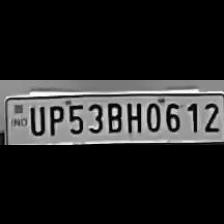0: (143, 98, 161, 132)
1: (183, 99, 199, 133)
2: (198, 98, 220, 132)
3: (85, 99, 103, 134)
5: (65, 100, 85, 134)
6: (162, 99, 182, 133)
B: (104, 97, 124, 132)
H: (124, 97, 142, 132)
P: (44, 100, 64, 136)
U: (27, 101, 46, 135)
